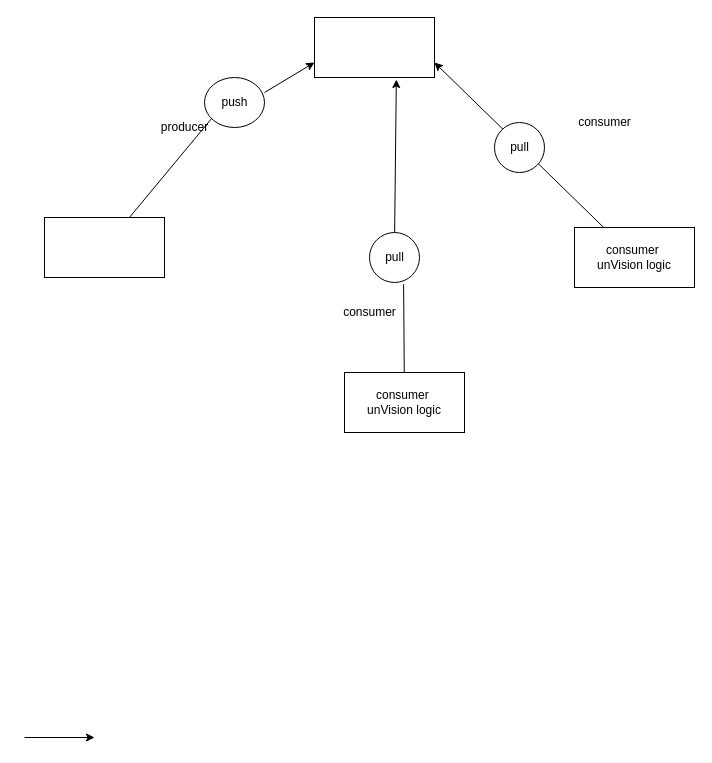
This 712x763 diagram has some shape labels left out. Each missing label, with the centre of its shape:
kafkaServer: (x=374, y=47)
mainApp: (x=104, y=247)
